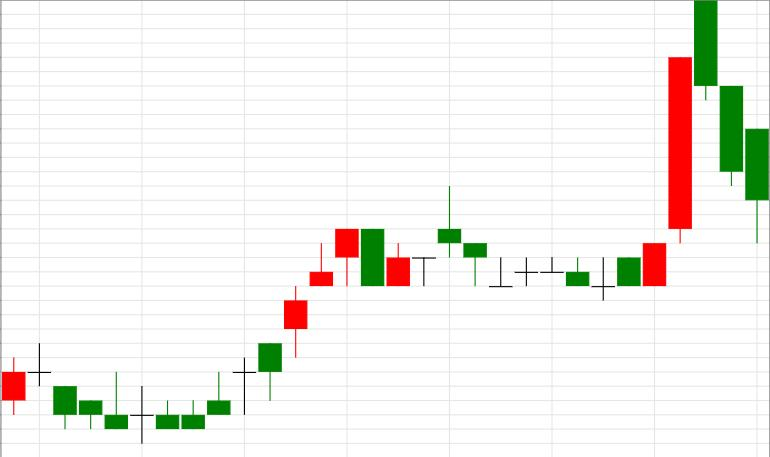bearish_engulfing_fall: (233, 230, 384, 414)
